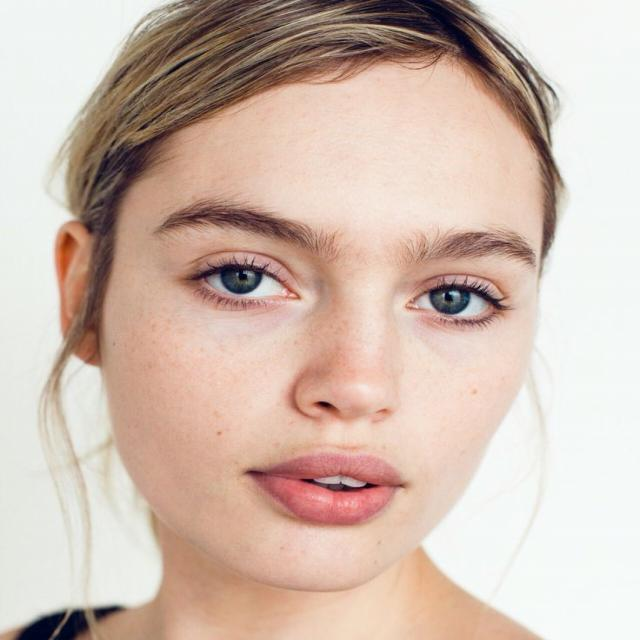earlobe: (53, 220, 106, 370)
